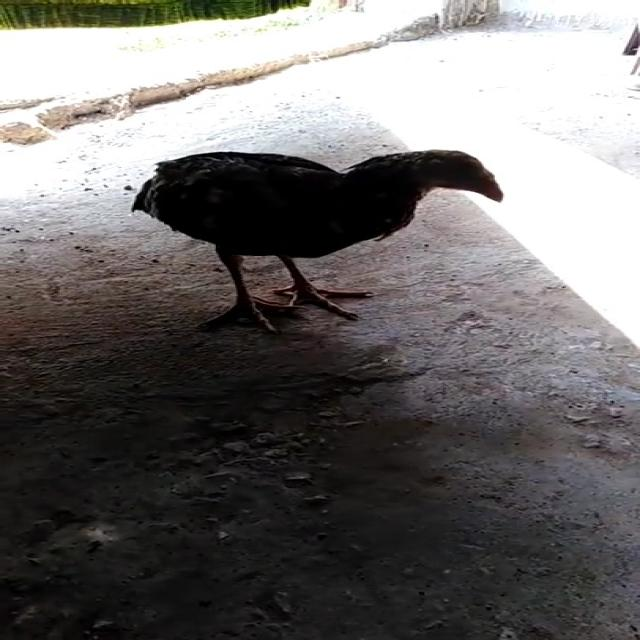walking: (120, 126, 511, 324)
